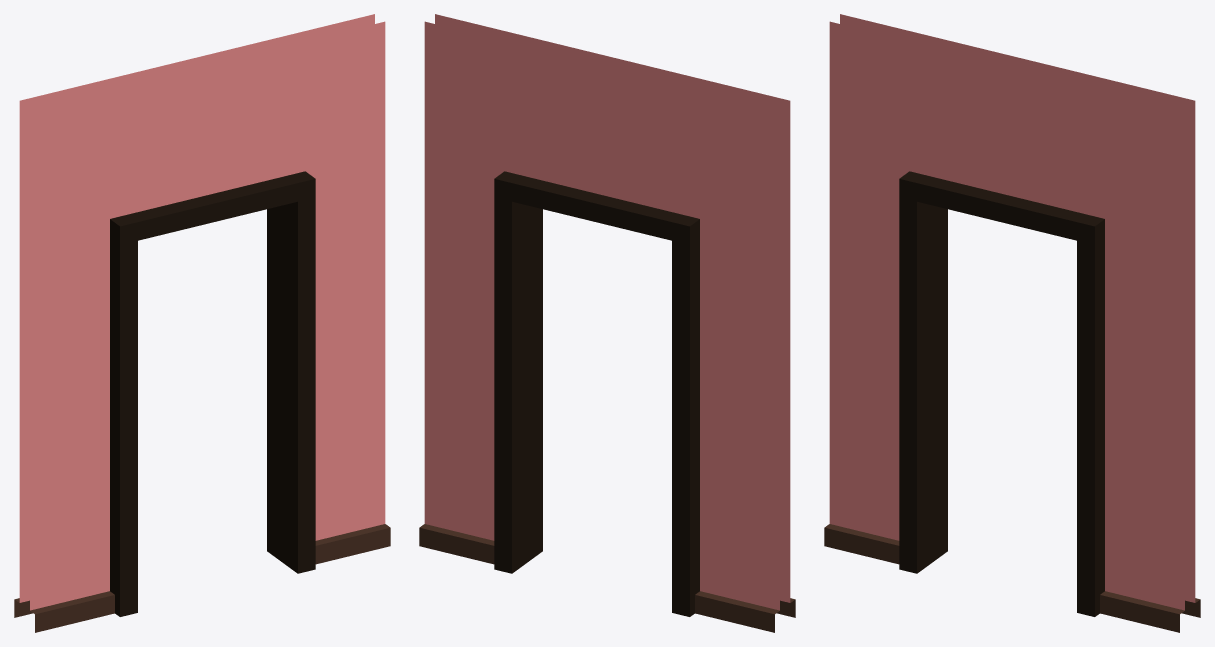
File: SM_Cadre_porte_Double_1x2.fbx
3 renders of one model, left to right at view 1: azimuth 30°, elevation 25°; view 2: azimuth 150°, elevation 25°; view 3: azimuth 330°, elevation 25°, orthographic.
Visible parts, largest first — view 1: SM_Cadre_porte_Double_1x2; view 2: SM_Cadre_porte_Double_1x2; view 3: SM_Cadre_porte_Double_1x2.
Part boxes in pixels (<box>): SM_Cadre_porte_Double_1x2: <box>14,14,390,632</box>; SM_Cadre_porte_Double_1x2: <box>419,14,795,632</box>; SM_Cadre_porte_Double_1x2: <box>824,14,1200,632</box>.
Size of the model in its own units: 2 by 2.8 by 0.3.
